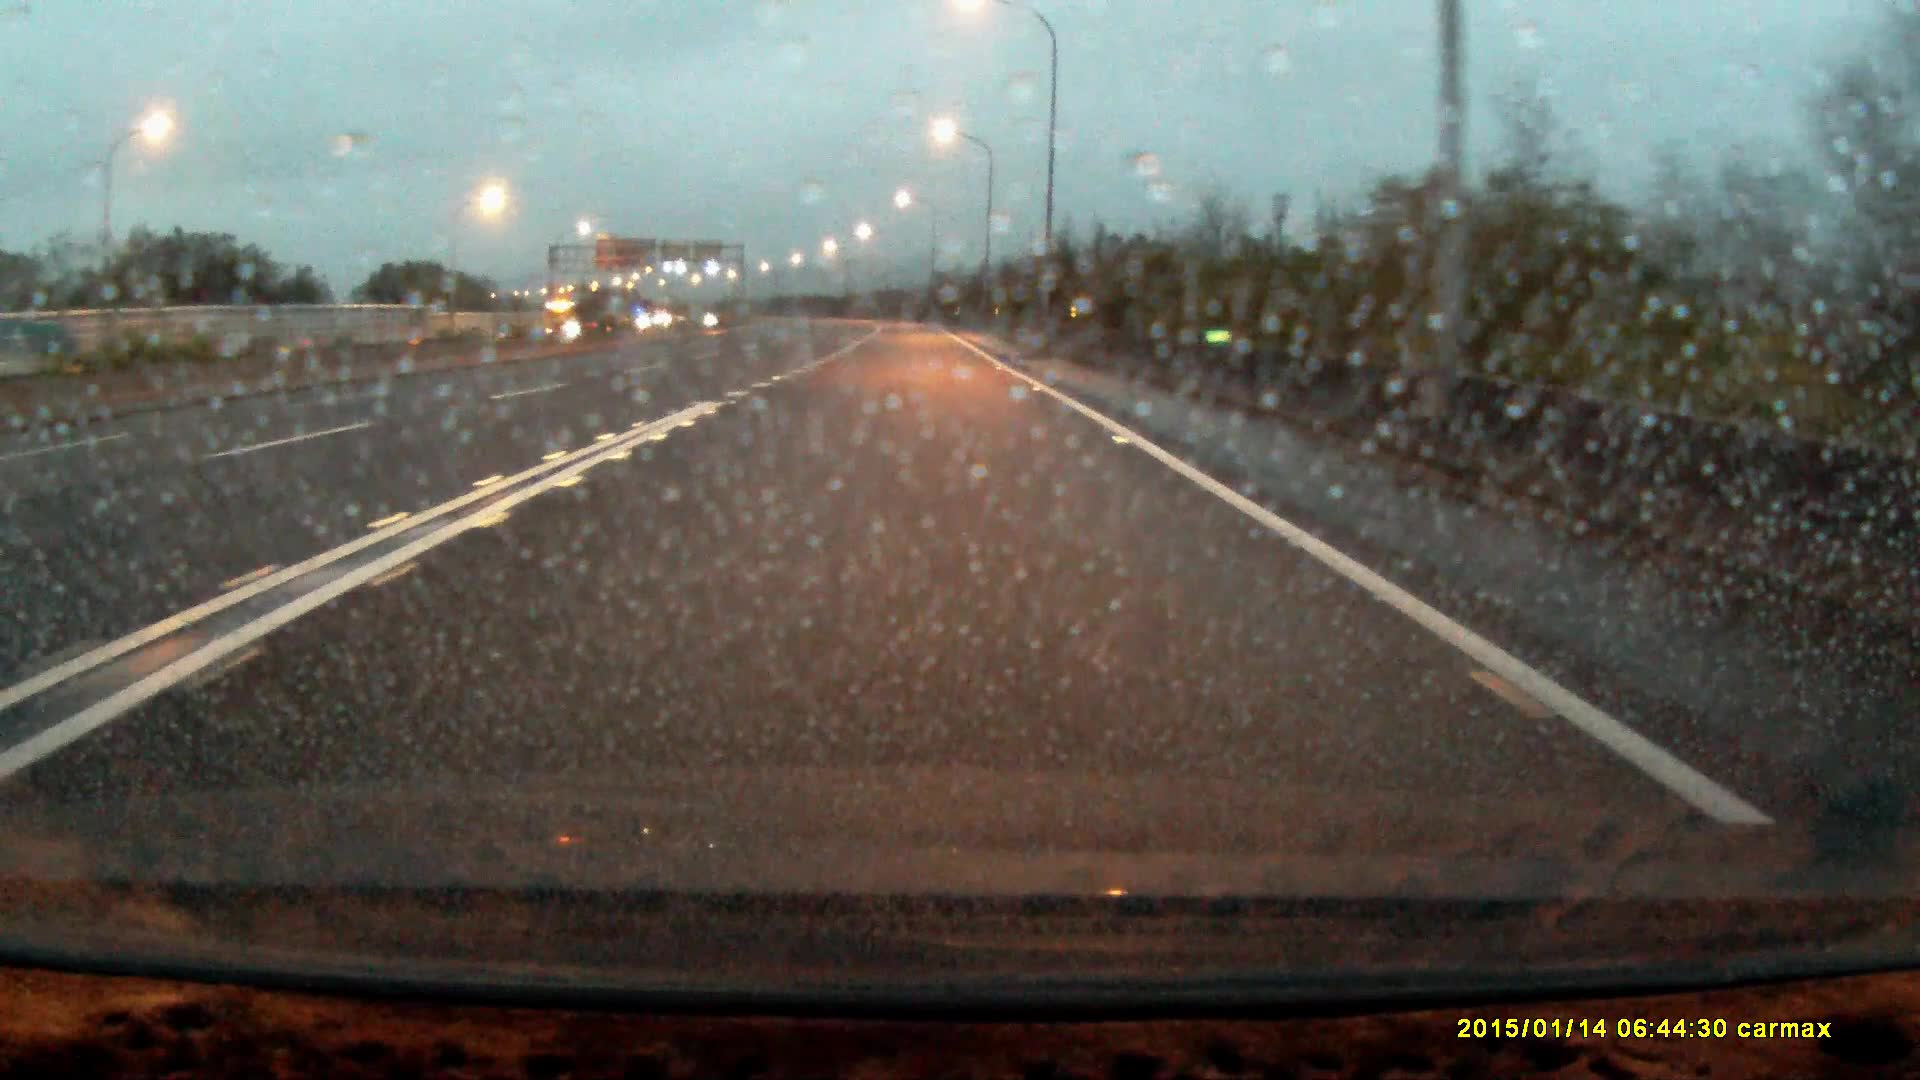vehicle: (541, 295, 600, 345)
